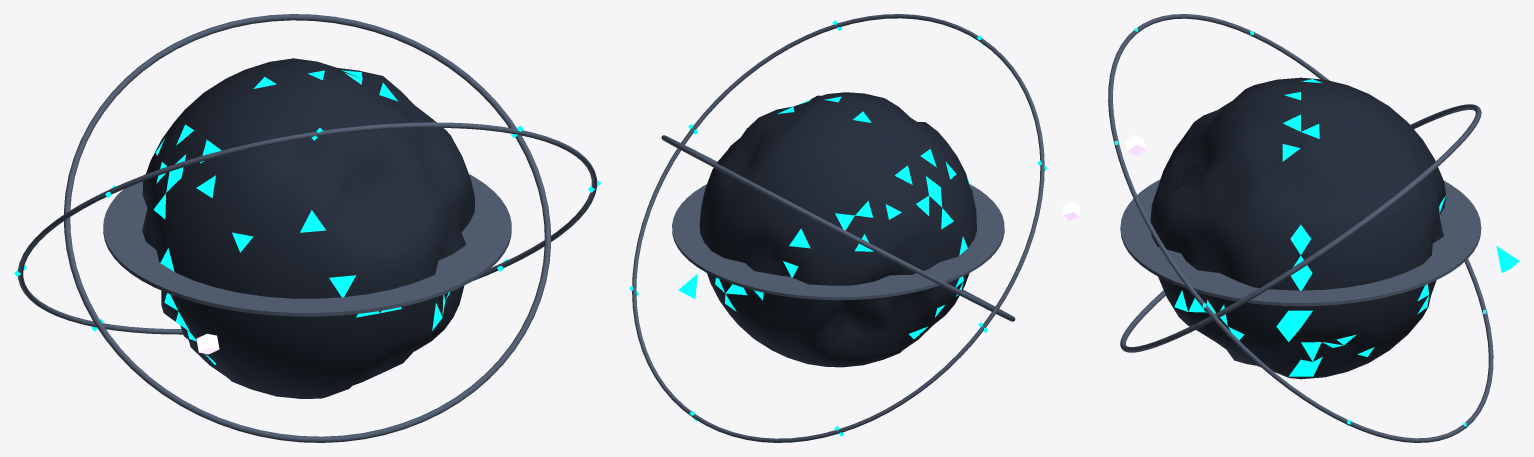
File: vectormoon.glb
3 renders of one model, left to right at view 1: azimuth 30°, elevation 25°; view 2: azimuth 150°, elevation 25°; view 3: azimuth 270°, elevation 25°, orthographic. The views are drawn at different scales.
Parts seen in each view (by area): view 1: VM_CelestialCore, VM_EquatorDataRing, VM_MidGimbal, VM_OuterGimbal; view 2: VM_CelestialCore, VM_EquatorDataRing, VM_OuterGimbal, VM_MidGimbal; view 3: VM_CelestialCore, VM_EquatorDataRing, VM_OuterGimbal, VM_MidGimbal.
Part boxes in pixels (left/top/right/bottom): VM_CelestialCore: left=142, top=58, right=474, bottom=398; VM_EquatorDataRing: left=103, top=174, right=511, bottom=316; VM_MidGimbal: left=64, top=14, right=550, bottom=442; VM_OuterGimbal: left=18, top=122, right=596, bottom=334; VM_CelestialCore: left=699, top=92, right=976, bottom=367; VM_EquatorDataRing: left=672, top=184, right=1004, bottom=300; VM_OuterGimbal: left=632, top=14, right=1044, bottom=442; VM_MidGimbal: left=661, top=135, right=1015, bottom=321; VM_CelestialCore: left=1150, top=77, right=1446, bottom=379; VM_EquatorDataRing: left=1120, top=179, right=1481, bottom=306; VM_OuterGimbal: left=1108, top=14, right=1493, bottom=442; VM_MidGimbal: left=1120, top=104, right=1481, bottom=352.
Bounding box in the file's own units: 4.65 × 3.35 × 3.77.
